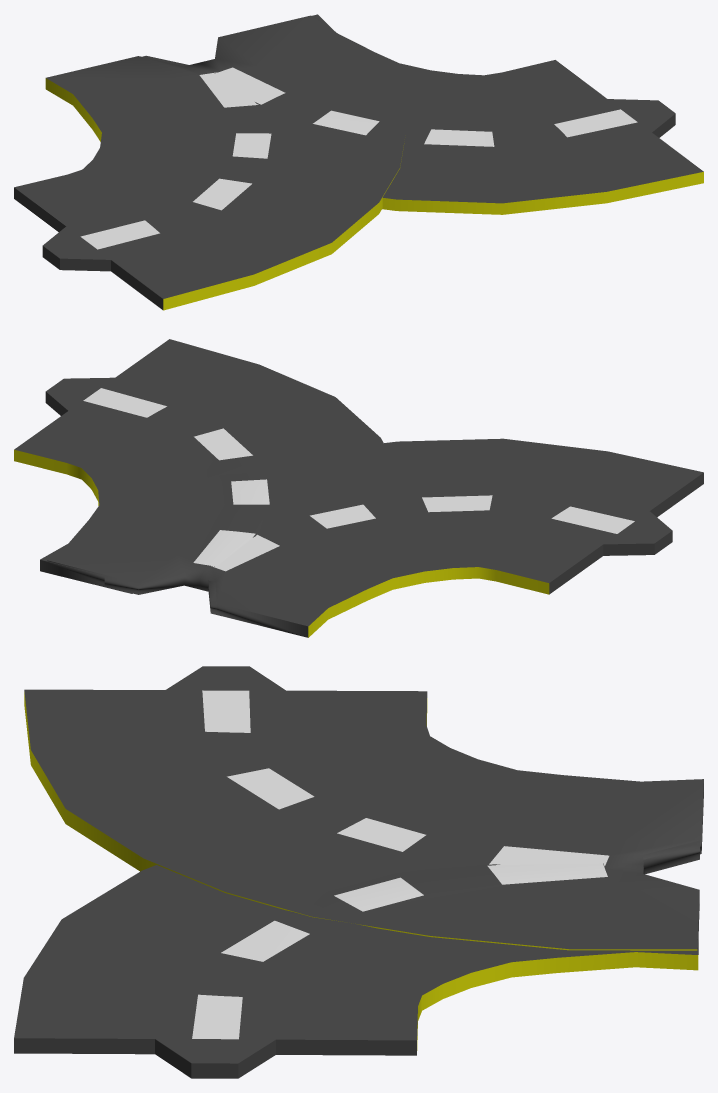
The model's file is Split Track Piece 1.fbx.
3 renders of one model, top to bottom at view 1: azimuth 30°, elevation 25°; view 2: azimuth 150°, elevation 25°; view 3: azimuth 270°, elevation 25°, orthographic. The views are drawn at different scales.
Visible parts, largest first — view 1: straight_piece21, straight_piece20; view 2: straight_piece21, straight_piece20; view 3: straight_piece21, straight_piece20.
Part boxes in pixels (<box>): straight_piece21: <box>14,15,405,310</box>; straight_piece20: <box>142,14,703,214</box>; straight_piece21: <box>47,438,703,637</box>; straight_piece20: <box>14,339,383,618</box>; straight_piece21: <box>24,666,703,950</box>; straight_piece20: <box>14,840,699,1078</box>.
Bounding box in the file's own units: 19.83 × 0.3986 × 14.59.
